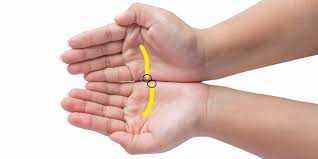palm: (126, 27, 188, 76), (129, 86, 198, 130)
